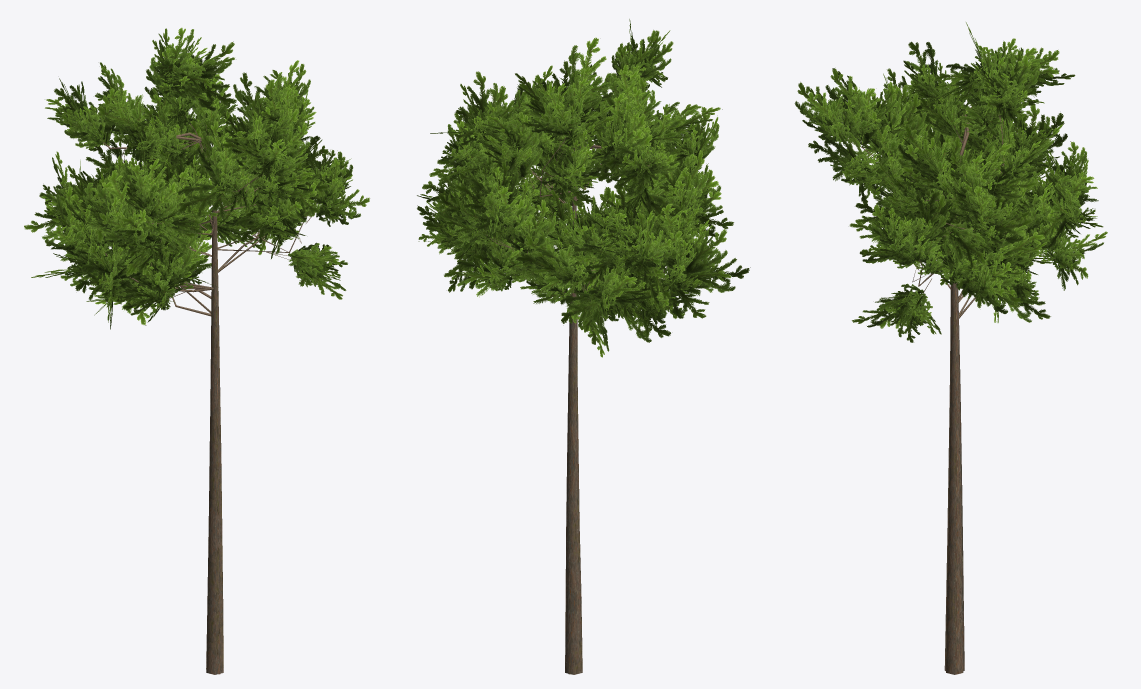
Rendered from tree_longleaf_pine.glb.
3 views of the same model, side by side, from view 1: azimuth 30°, elevation 25°; view 2: azimuth 150°, elevation 25°; view 3: azimuth 270°, elevation 25° (orthographic).
Visible parts, largest first — view 1: LOD1_leaves, LOD0_leaves, LOD0_trunk, LOD1_trunk; view 2: LOD1_leaves, LOD0_leaves, LOD0_trunk, LOD1_trunk; view 3: LOD1_leaves, LOD0_leaves, LOD0_trunk, LOD1_trunk.
Boxes of the visible parts, bbox=[...] form: LOD1_leaves: bbox=[24, 27, 369, 329]; LOD0_leaves: bbox=[46, 44, 349, 312]; LOD0_trunk: bbox=[98, 115, 320, 674]; LOD1_trunk: bbox=[106, 124, 322, 674]; LOD1_leaves: bbox=[417, 19, 750, 357]; LOD0_leaves: bbox=[418, 42, 719, 333]; LOD0_trunk: bbox=[484, 131, 687, 674]; LOD1_trunk: bbox=[486, 137, 667, 674]; LOD1_leaves: bbox=[794, 22, 1107, 342]; LOD0_leaves: bbox=[814, 45, 1095, 328]; LOD0_trunk: bbox=[847, 107, 1055, 674]; LOD1_trunk: bbox=[867, 107, 1061, 670].
Size of the model in its own units: 10.54 by 20.86 by 10.21.
Materials: 2 (2 with a texture image).
